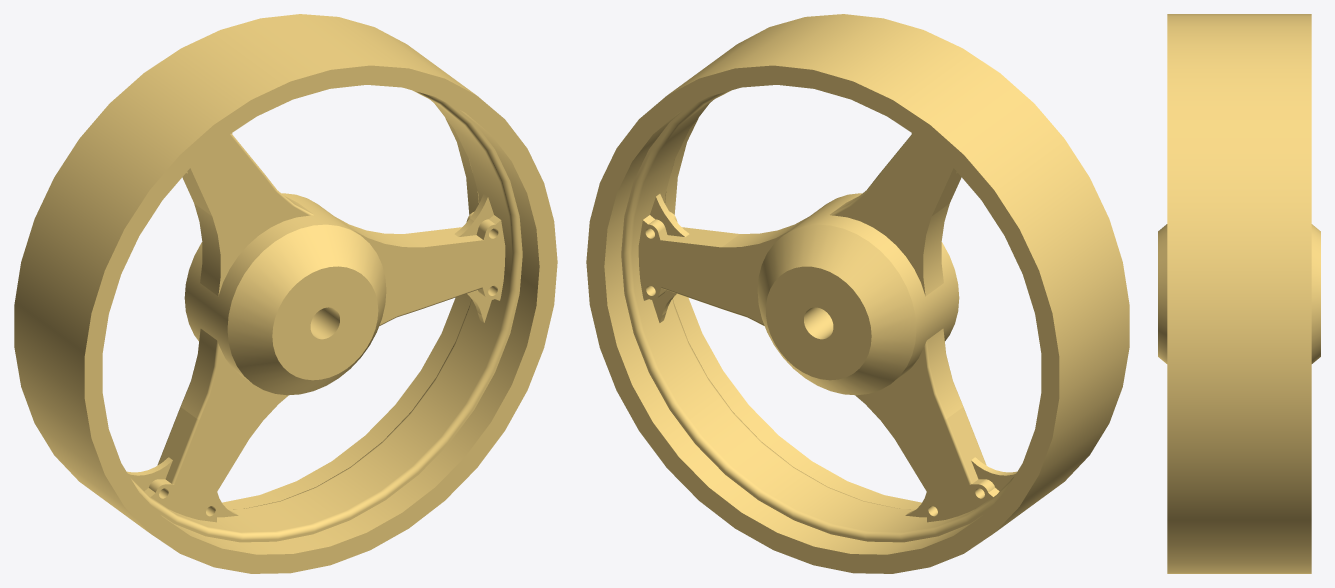
File: Akiruhanui_ReVOLT_EV_Kawasaki_Front_Wheel_Rim.obj
3 views of the same model, side by side, from view 1: azimuth 30°, elevation 25°; view 2: azimuth 150°, elevation 25°; view 3: azimuth 270°, elevation 25° (orthographic). The views are drawn at different scales.
Visible parts, largest first — view 1: Fillet1, Fillet2; view 2: Fillet1, Fillet2; view 3: Fillet1, Fillet2.
Boxes of the visible parts, x1,y1,x2,y2 form: Fillet1: (14,14,557,573); Fillet2: (127,133,505,522); Fillet1: (586,14,1129,573); Fillet2: (638,133,1016,522); Fillet1: (1167,14,1311,573); Fillet2: (1158,224,1320,363).
Bounding box in the file's own units: 446 × 447 × 130.
